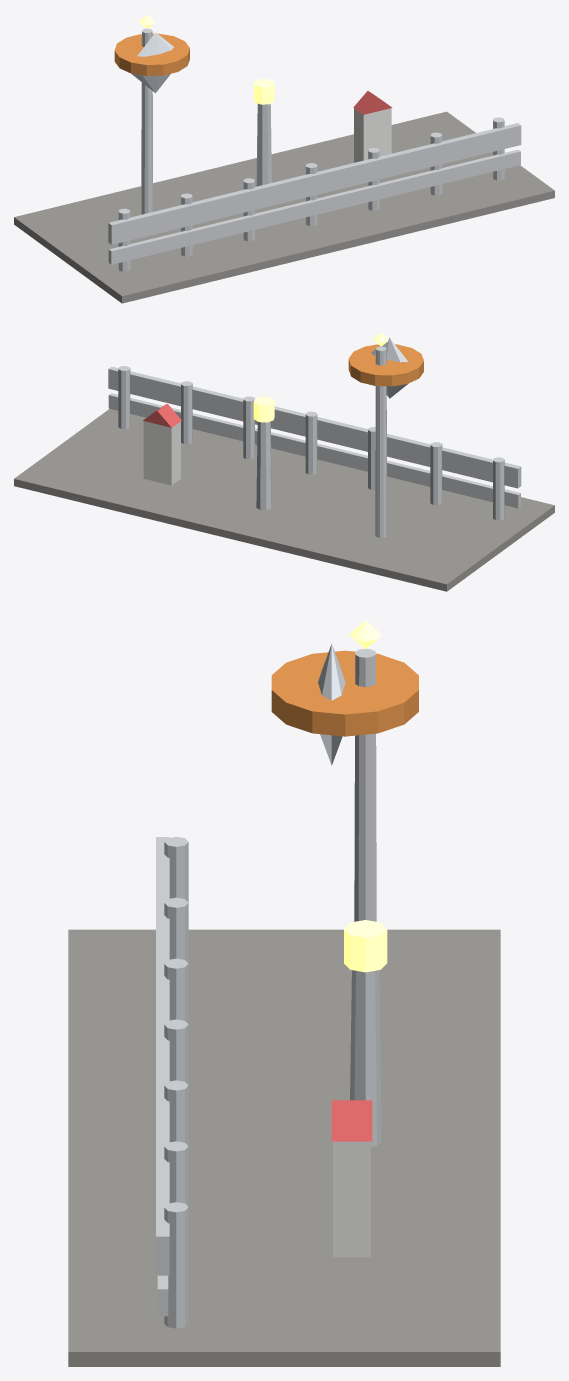
The model's file is prop_17_dalat_mountain_pass_convex_mirror_km_marker_and_guardrail_kit.glb.
The picture shows the model from 3 angles, top to bottom: view 1: azimuth 30°, elevation 25°; view 2: azimuth 150°, elevation 25°; view 3: azimuth 270°, elevation 25°; orthographic projection. The views are drawn at different scales.
Parts seen in each view (by area): view 1: prop_17_dalat_mountain_pass_convex_mirror_km_marker_and_guar; view 2: prop_17_dalat_mountain_pass_convex_mirror_km_marker_and_guar; view 3: prop_17_dalat_mountain_pass_convex_mirror_km_marker_and_guar.
Boxes of the visible parts, <box> form: prop_17_dalat_mountain_pass_convex_mirror_km_marker_and_guar: <box>14,14,554,303</box>; prop_17_dalat_mountain_pass_convex_mirror_km_marker_and_guar: <box>14,332,554,591</box>; prop_17_dalat_mountain_pass_convex_mirror_km_marker_and_guar: <box>68,620,500,1366</box>.
Bounding box in the file's own units: 7.4 × 3.44 × 3.2.
